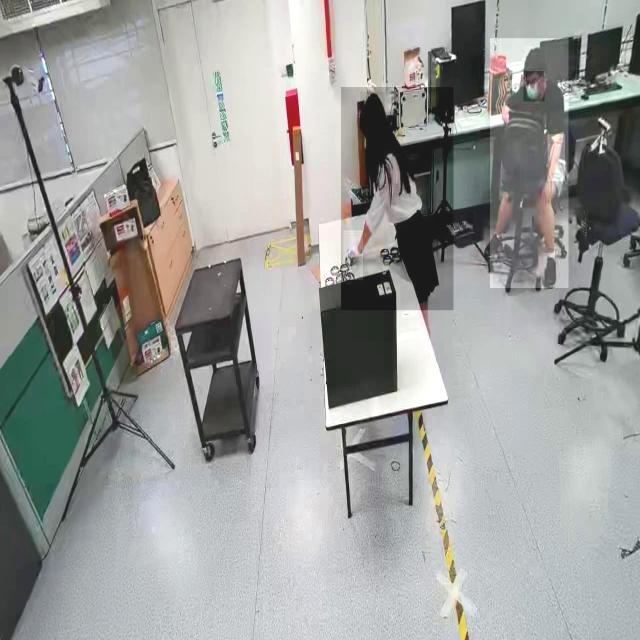face_mask: (523, 71, 545, 102)
hand_glove: (343, 230, 363, 281)
hand_noglove: (547, 134, 565, 182)
head_nohelmet: (360, 92, 384, 120), (524, 46, 548, 70)
person: (341, 87, 454, 311), (489, 38, 568, 289)
